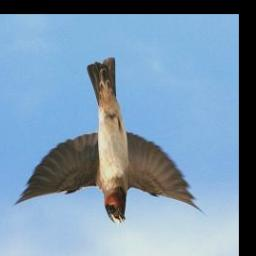Swallow: (13, 57, 207, 226)
